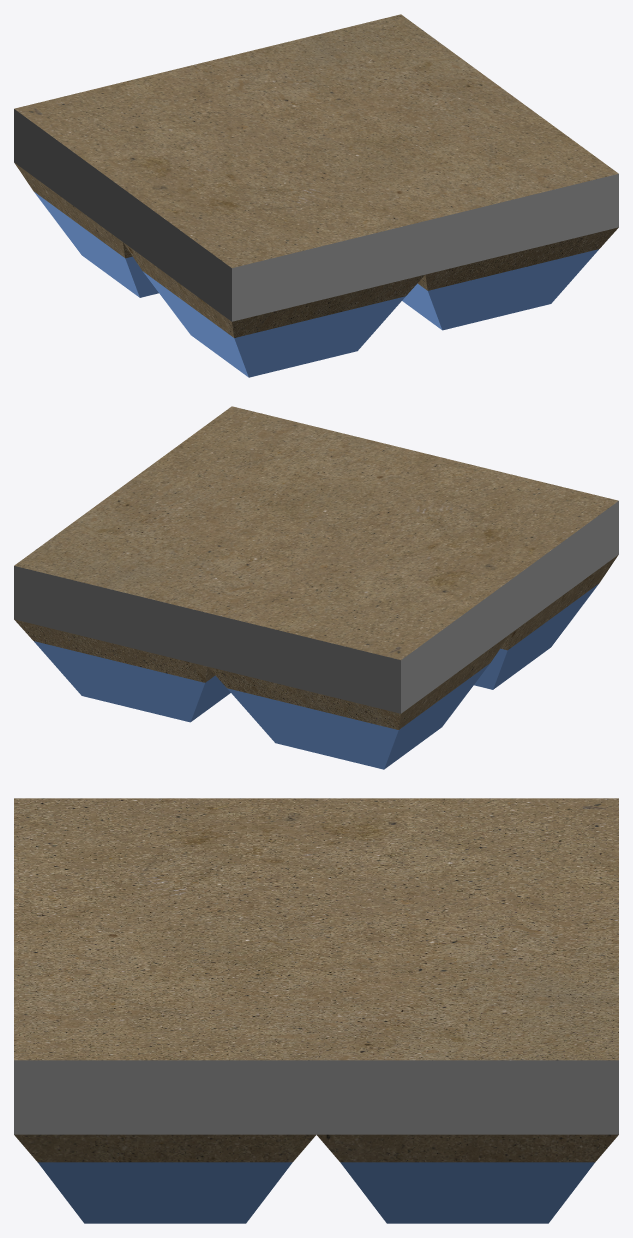
The model's file is Platform_02.fbx.
3 renders of one model, top to bottom at view 1: azimuth 30°, elevation 25°; view 2: azimuth 150°, elevation 25°; view 3: azimuth 270°, elevation 25°, orthographic. The views are drawn at different scales.
Parts seen in each view (by area): view 1: Platdorm_Red_003, Shape005; view 2: Platdorm_Red_003, Shape005; view 3: Platdorm_Red_003, Shape005.
Boxes of the visible parts, x1,y1,x2,y2 form: Platdorm_Red_003: (14, 14, 618, 337); Shape005: (34, 192, 598, 377); Platdorm_Red_003: (14, 406, 618, 729); Shape005: (34, 584, 598, 769); Platdorm_Red_003: (14, 798, 618, 1162); Shape005: (38, 1162, 594, 1223).
Size of the model in its own units: 12.06 by 4.12 by 11.76.
